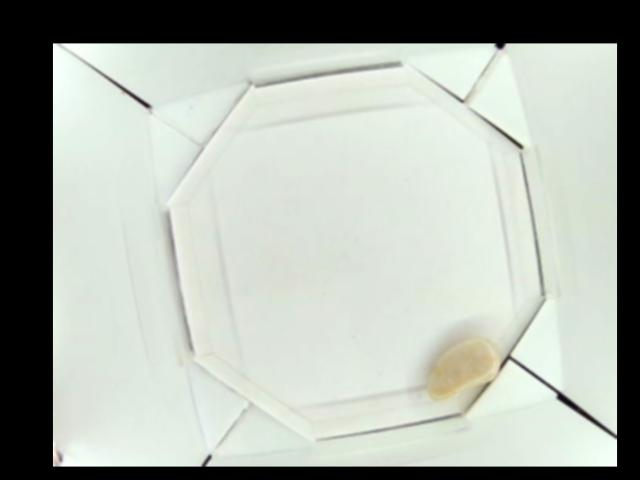Pebble: (424, 333, 500, 403)
